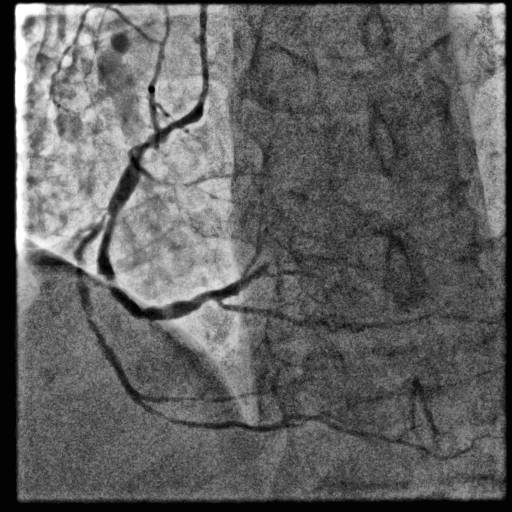pborca: (221, 262, 269, 299)
pda: (217, 301, 431, 332)
rca: (98, 103, 223, 322)
